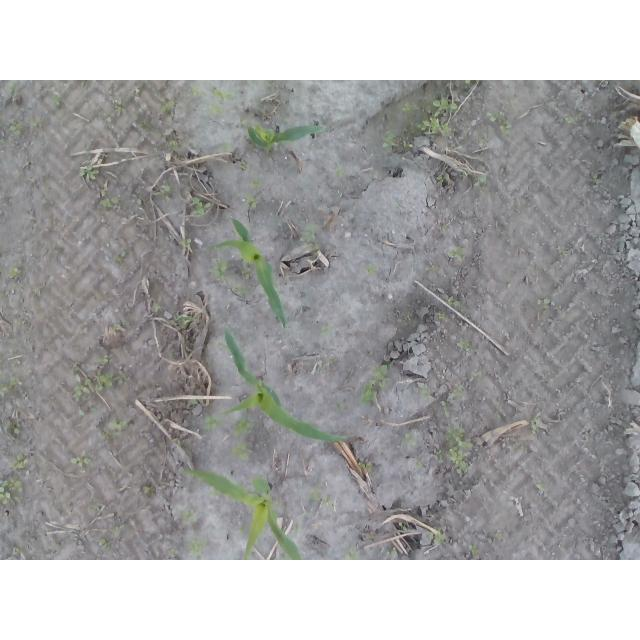Maize: (218, 325, 350, 443), (179, 466, 304, 560), (202, 216, 287, 328), (246, 121, 327, 153)
Weeds: (414, 116, 452, 136), (486, 110, 515, 135), (447, 445, 471, 475), (298, 223, 322, 253), (445, 425, 473, 448), (95, 371, 126, 390), (0, 477, 22, 503), (307, 488, 333, 510), (206, 256, 228, 282), (100, 421, 130, 440), (73, 374, 92, 402), (167, 313, 197, 330), (233, 415, 256, 437), (228, 442, 252, 463), (98, 188, 122, 209), (186, 537, 207, 560), (359, 380, 378, 405), (433, 98, 459, 116), (372, 364, 391, 387), (189, 197, 211, 216), (204, 413, 224, 431), (161, 131, 179, 151), (156, 95, 176, 113), (78, 164, 100, 180), (230, 283, 251, 298), (427, 527, 445, 544), (243, 192, 261, 209), (446, 247, 466, 262), (212, 88, 237, 100), (204, 102, 226, 115), (341, 545, 360, 560), (530, 411, 542, 434), (11, 453, 26, 471), (153, 185, 172, 199), (69, 456, 91, 468), (113, 96, 126, 116), (8, 122, 24, 138), (380, 133, 397, 148), (401, 433, 419, 447), (139, 120, 158, 133), (5, 421, 21, 436), (181, 509, 197, 524), (189, 84, 207, 97), (449, 385, 464, 400), (8, 372, 21, 389), (420, 385, 434, 400), (179, 235, 194, 249), (364, 264, 380, 277), (536, 297, 553, 309), (440, 400, 451, 418), (272, 552, 294, 561), (435, 172, 451, 184), (241, 263, 252, 280), (474, 172, 487, 186), (468, 370, 483, 382), (565, 113, 583, 123), (96, 353, 112, 364), (152, 301, 165, 314), (97, 538, 111, 550), (587, 172, 601, 184), (359, 461, 374, 472), (8, 266, 21, 278), (320, 324, 333, 336), (458, 338, 470, 351), (447, 295, 460, 307), (468, 544, 480, 556), (239, 161, 252, 172), (51, 92, 62, 104), (114, 251, 126, 262), (210, 487, 223, 497), (188, 396, 204, 404), (401, 101, 412, 112), (492, 532, 505, 541), (398, 521, 408, 532), (333, 402, 345, 411), (332, 168, 344, 177), (0, 383, 8, 396), (167, 350, 177, 360), (536, 483, 546, 493), (557, 245, 567, 255), (114, 524, 125, 533), (172, 438, 183, 447), (387, 547, 398, 556), (221, 141, 232, 150), (435, 448, 443, 460), (295, 524, 302, 537), (251, 177, 260, 187), (402, 141, 414, 148), (12, 547, 21, 556), (438, 312, 447, 321), (144, 485, 152, 495), (237, 525, 247, 533), (113, 323, 121, 333), (9, 81, 16, 92), (414, 460, 422, 469), (425, 265, 437, 271), (477, 134, 486, 142), (168, 549, 176, 557), (31, 121, 40, 128), (90, 406, 99, 413), (275, 499, 284, 505), (461, 80, 471, 85), (365, 534, 372, 541), (520, 445, 528, 451), (239, 117, 245, 124), (34, 287, 39, 293)
